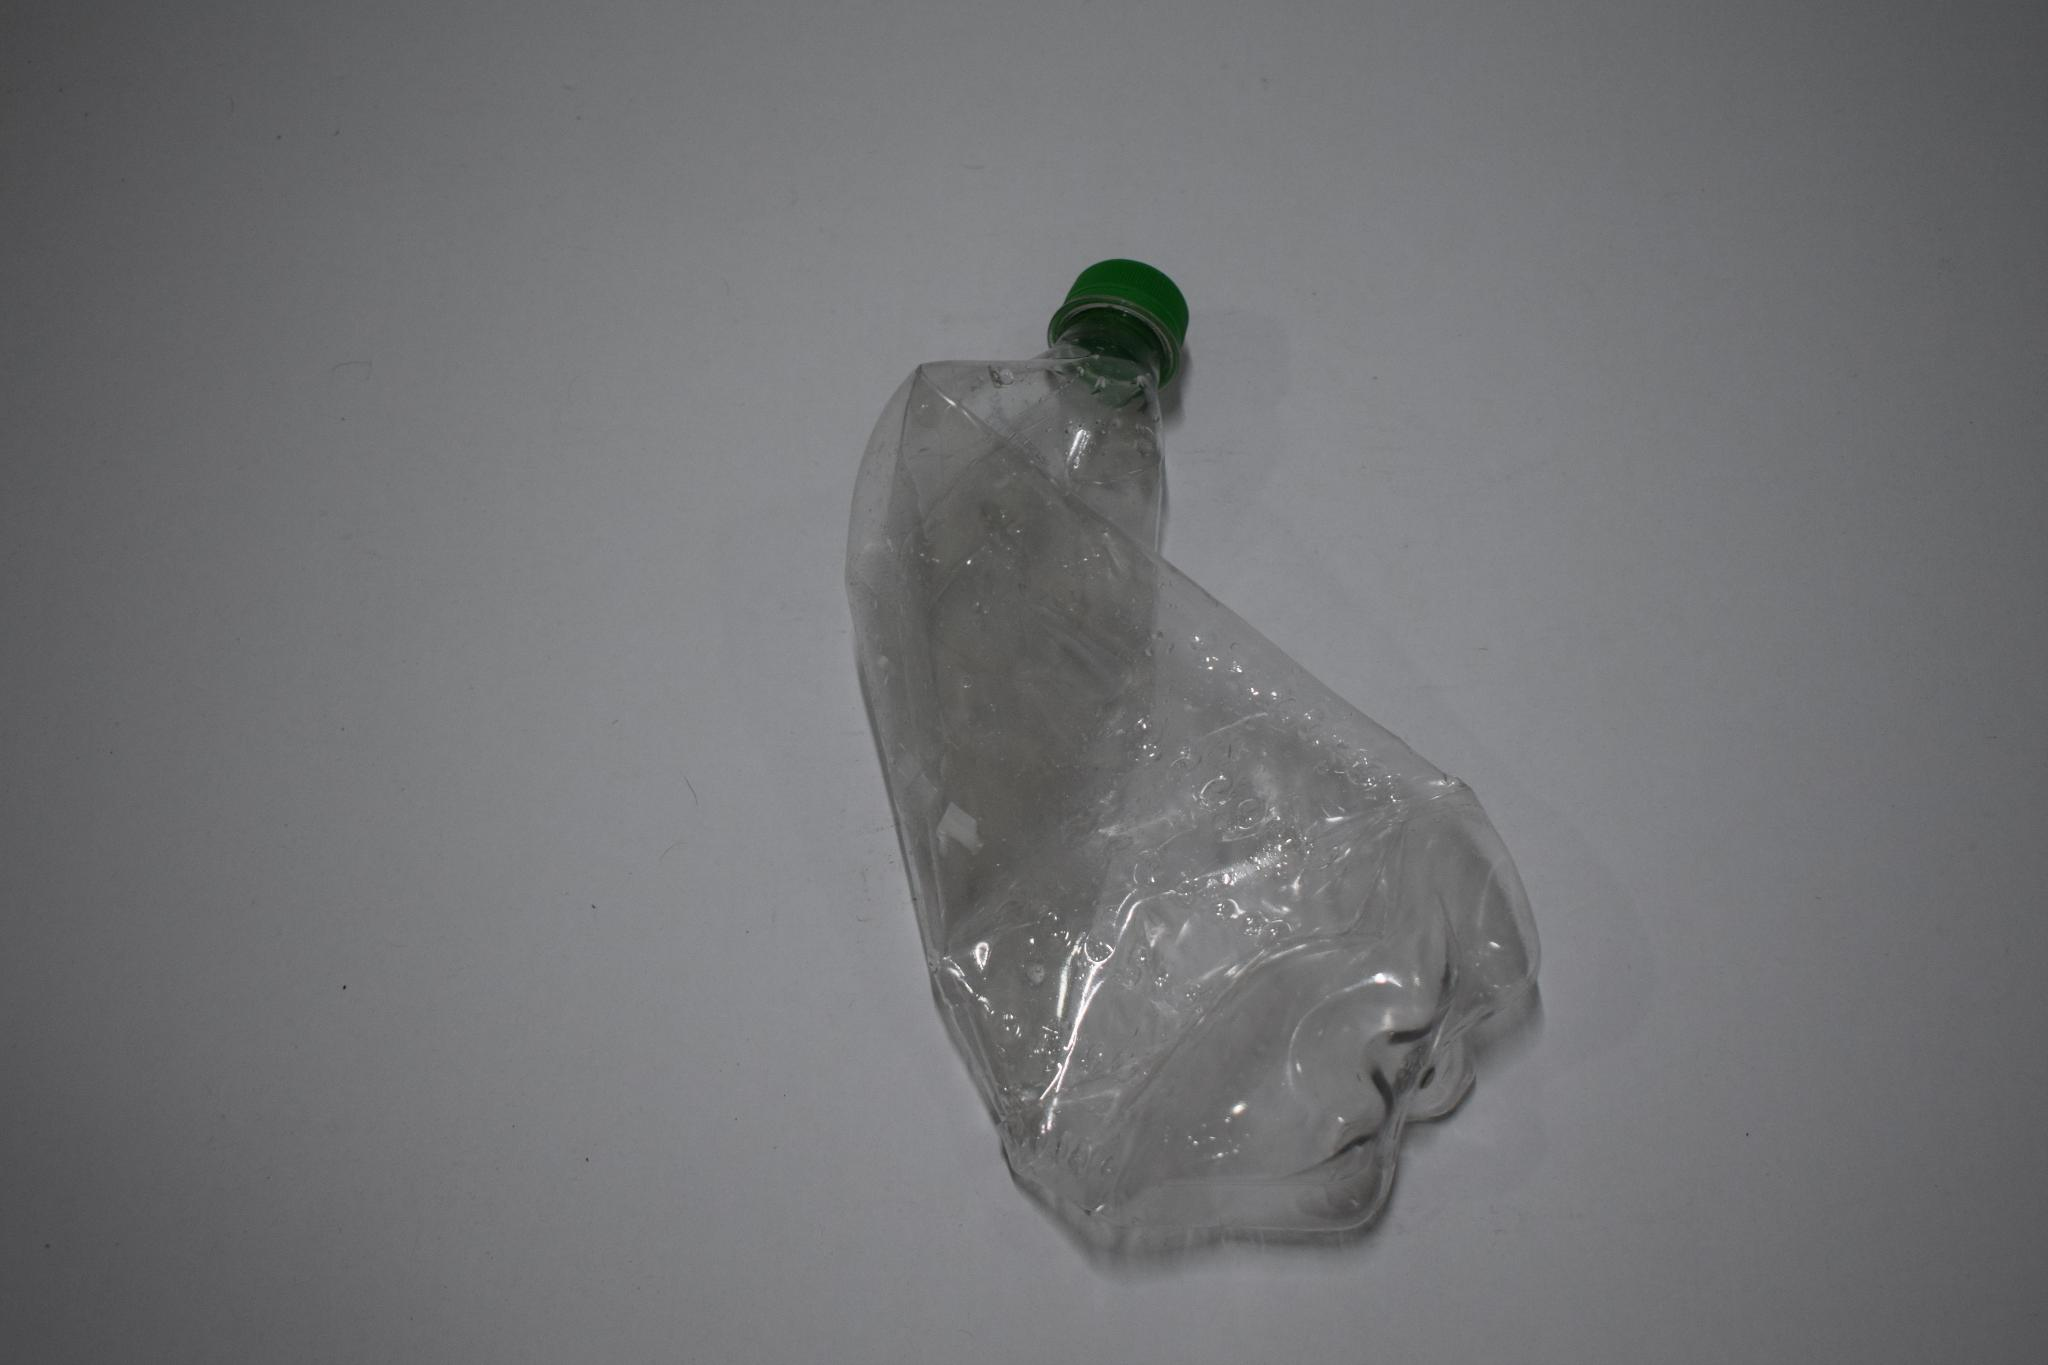bottle: (796, 218, 1590, 1275)
